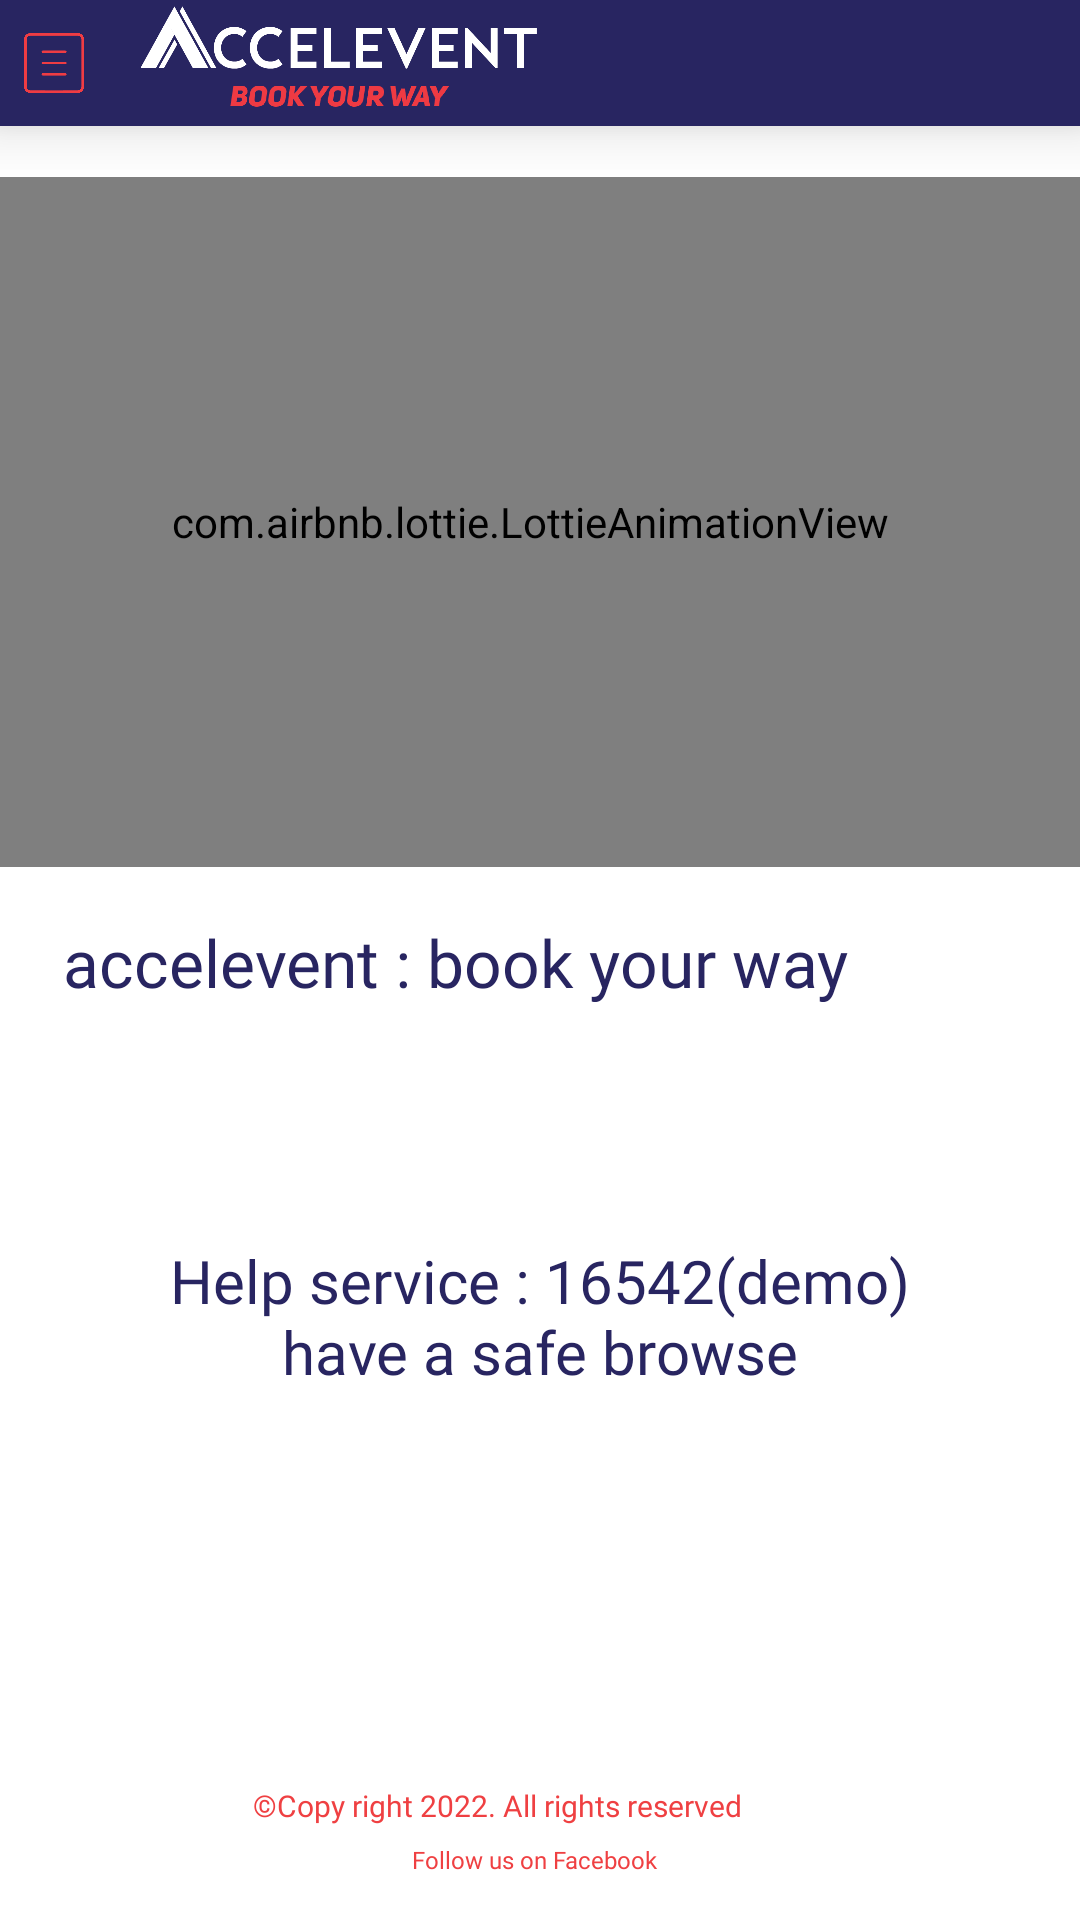

Screen size 1080 x 1920. Icon name, then its center in pixels as (x=x, y=y):
handburger: (x=54, y=63)
